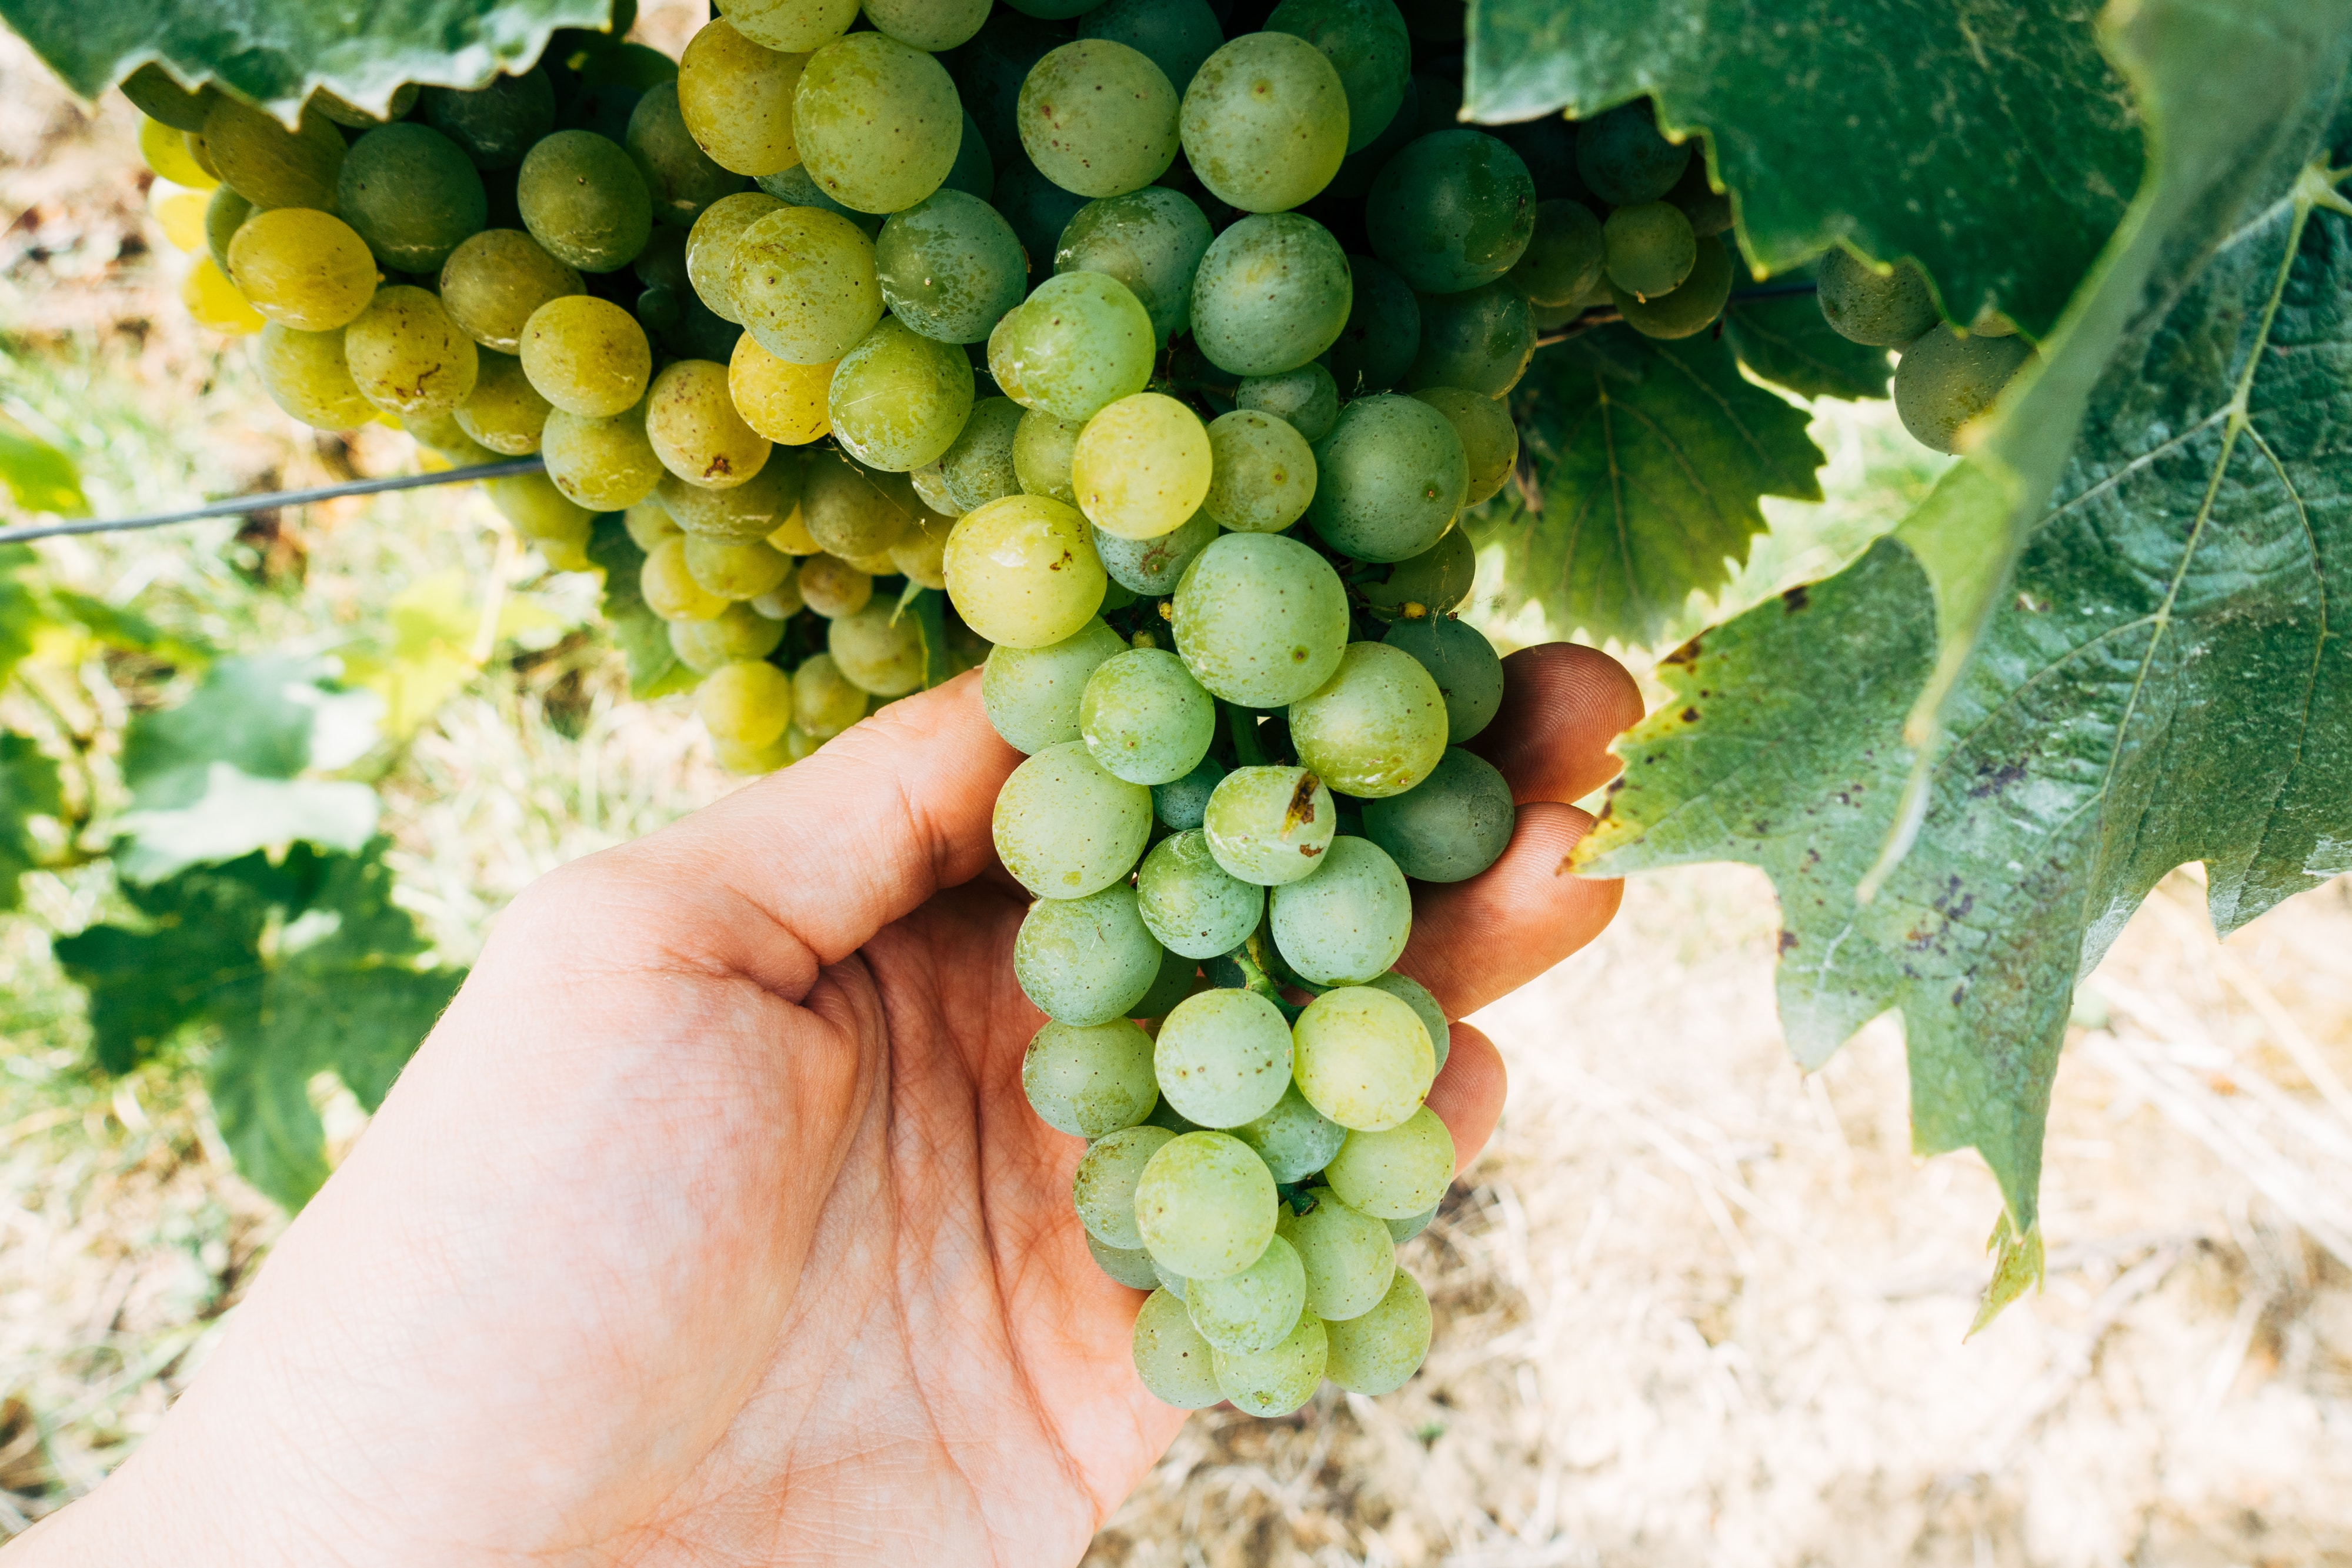healthy: (1169, 38, 1358, 201), (1178, 544, 1361, 710), (994, 740, 1157, 905), (1379, 145, 1538, 313), (1186, 210, 1358, 364), (1311, 411, 1470, 574), (1020, 33, 1174, 192), (793, 38, 976, 171), (864, 184, 1038, 317), (1263, 840, 1426, 976), (1178, 390, 1328, 530), (500, 124, 647, 266), (668, 21, 796, 180), (982, 283, 1151, 402), (947, 509, 1106, 630), (724, 206, 878, 331), (331, 133, 488, 254), (1071, 394, 1213, 527), (1367, 737, 1508, 870), (982, 630, 1157, 737), (831, 334, 994, 446), (1144, 994, 1302, 1109), (506, 296, 654, 416), (1293, 663, 1444, 780), (1139, 1136, 1263, 1272), (1024, 905, 1157, 1027), (1302, 985, 1423, 1118), (535, 367, 647, 509), (1092, 660, 1221, 780), (1027, 1011, 1144, 1144), (1144, 831, 1272, 950), (1225, 1284, 1328, 1431), (1328, 1101, 1452, 1221), (222, 227, 364, 331), (1375, 609, 1512, 716), (651, 364, 784, 471), (343, 290, 485, 390), (740, 304, 835, 450), (1216, 763, 1325, 887), (1290, 1195, 1393, 1325), (1186, 1246, 1302, 1361), (248, 331, 381, 423), (1337, 1260, 1431, 1388), (1074, 231, 1207, 317), (180, 107, 322, 184), (1414, 381, 1524, 476), (793, 458, 908, 541), (1127, 1302, 1230, 1393), (716, 0, 864, 56), (857, 0, 1006, 56), (835, 595, 913, 695), (677, 535, 784, 609), (1615, 210, 1692, 308), (1071, 1157, 1160, 1237), (707, 651, 784, 737)
